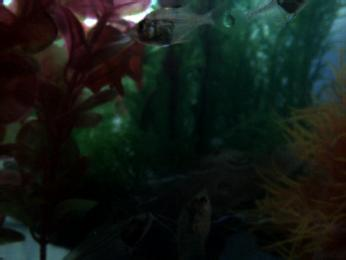X-ray fish: (126, 5, 218, 48), (168, 187, 216, 258), (236, 1, 311, 36)
glassfish: (59, 210, 159, 260)
